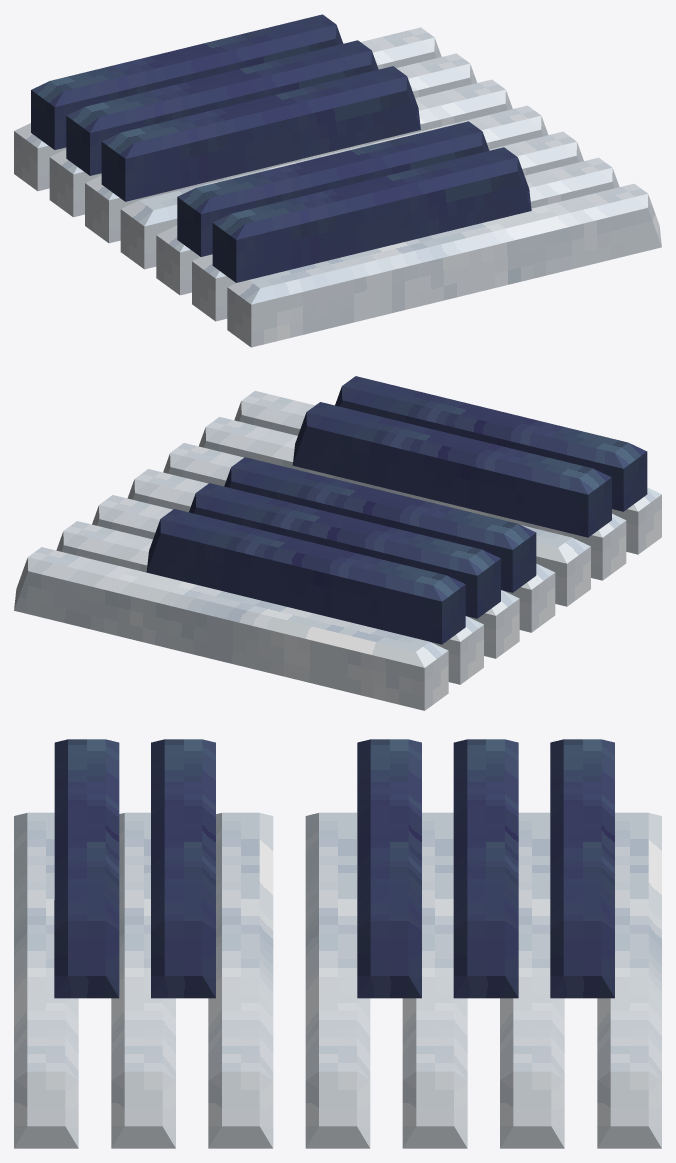
File: keyboard_keys.fbx
The picture shows the model from 3 angles, top to bottom: view 1: azimuth 30°, elevation 25°; view 2: azimuth 150°, elevation 25°; view 3: azimuth 270°, elevation 25°; orthographic projection. The views are drawn at different scales.
Visible parts, largest first — view 1: C, F_Sharp, C_Sharp, G_Sharp, D_Sharp, A_Sharp, F, G, D, A, E, B; view 2: B, A_Sharp, D_Sharp, C_Sharp, F_Sharp, G_Sharp, D, E, A, C, F, G; view 3: E, F, B, C, G_Sharp, C_Sharp, D_Sharp, F_Sharp, A_Sharp, A, G, D.
Boxes of the visible parts, box(x1,y1,x2,y2) form: C: box(227, 183, 661, 347); F_Sharp: box(101, 66, 420, 201); C_Sharp: box(212, 147, 531, 282); G_Sharp: box(66, 40, 378, 175); D_Sharp: box(177, 121, 489, 256); A_Sharp: box(31, 14, 343, 149); F: box(120, 105, 548, 269); G: box(85, 79, 512, 243); D: box(192, 157, 619, 321); A: box(49, 53, 476, 217); E: box(156, 131, 583, 295); B: box(14, 27, 441, 191); B: box(14, 547, 448, 710); A_Sharp: box(146, 509, 465, 644); D_Sharp: box(292, 402, 611, 537); C_Sharp: box(335, 376, 647, 511); F_Sharp: box(224, 457, 536, 592); G_Sharp: box(189, 483, 500, 618); D: box(199, 417, 626, 580); E: box(163, 443, 590, 606); A: box(56, 521, 483, 684); C: box(234, 391, 661, 554); F: box(127, 469, 555, 632); G: box(92, 495, 519, 658); E: box(208, 812, 273, 1148); F: box(305, 812, 370, 1148); B: box(597, 812, 661, 1148); C: box(14, 812, 78, 1148); G_Sharp: box(453, 739, 518, 998); C_Sharp: box(54, 739, 119, 998); D_Sharp: box(151, 739, 215, 998); F_Sharp: box(357, 739, 421, 998); A_Sharp: box(550, 739, 614, 998); A: box(500, 812, 564, 1148); G: box(402, 812, 467, 1148); D: box(111, 812, 175, 1148).
Bounding box in the file's own units: 200 × 201 × 49.26.
1 material, 1 textured.
